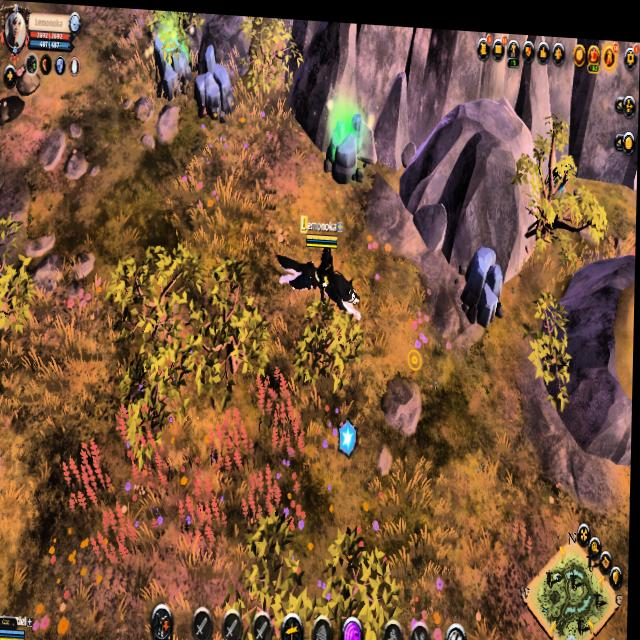rock tier 4: (457, 235, 509, 323), (324, 104, 368, 184), (192, 39, 236, 119), (151, 24, 195, 99)
